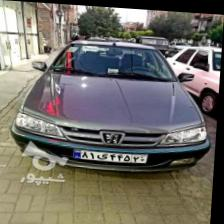plate: (73, 147, 151, 162)
